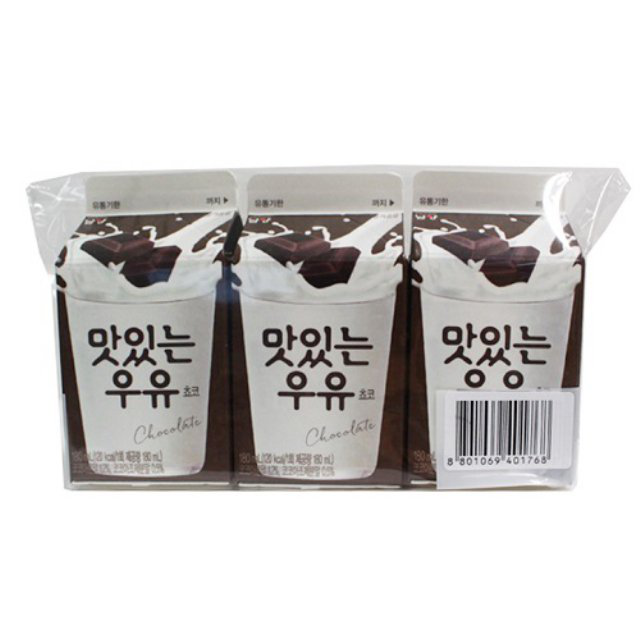milk: (54, 171, 587, 494)
